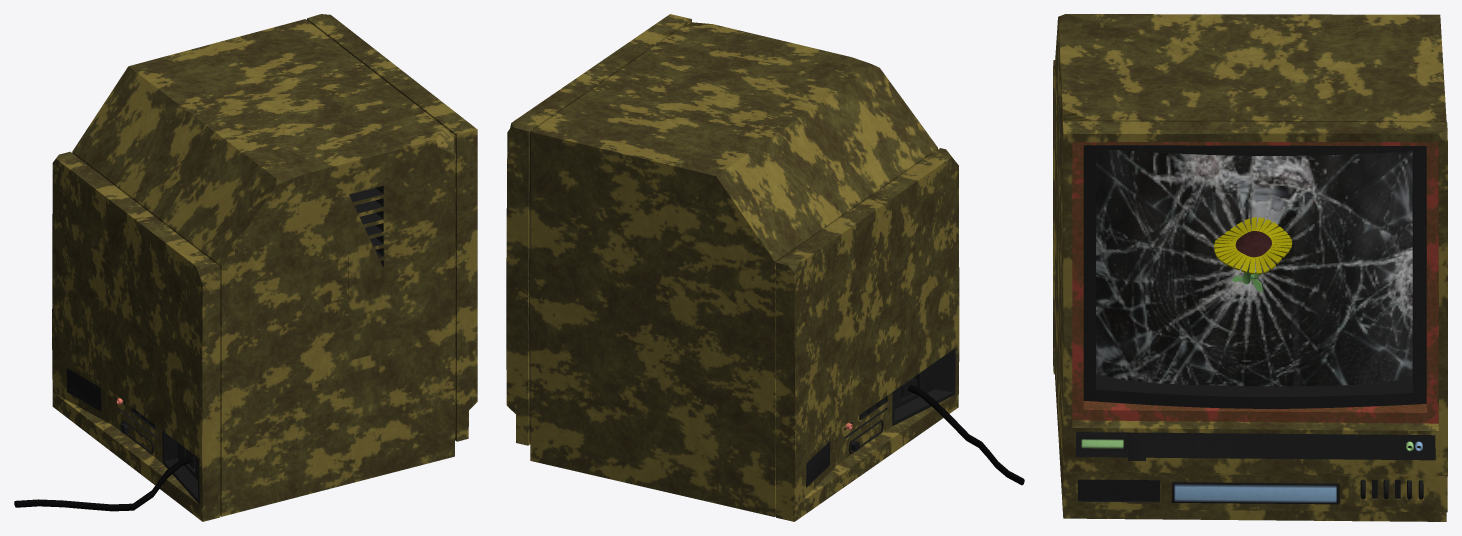
The model's file is CRT_TV_Broken.fbx.
3 renders of one model, left to right at view 1: azimuth 30°, elevation 25°; view 2: azimuth 150°, elevation 25°; view 3: azimuth 270°, elevation 25°, orthographic. The views are drawn at different scales.
Visible parts, largest first — view 1: Broken BAKED; view 2: Broken BAKED; view 3: Broken BAKED.
Boxes of the visible parts, left/top/right/bottom form: Broken BAKED: left=14, top=14, right=477, bottom=521; Broken BAKED: left=506, top=14, right=1024, bottom=521; Broken BAKED: left=1053, top=14, right=1447, bottom=521.
Bounding box in the file's own units: 74.09 × 50.37 × 44.7.
1 material, 1 textured.
